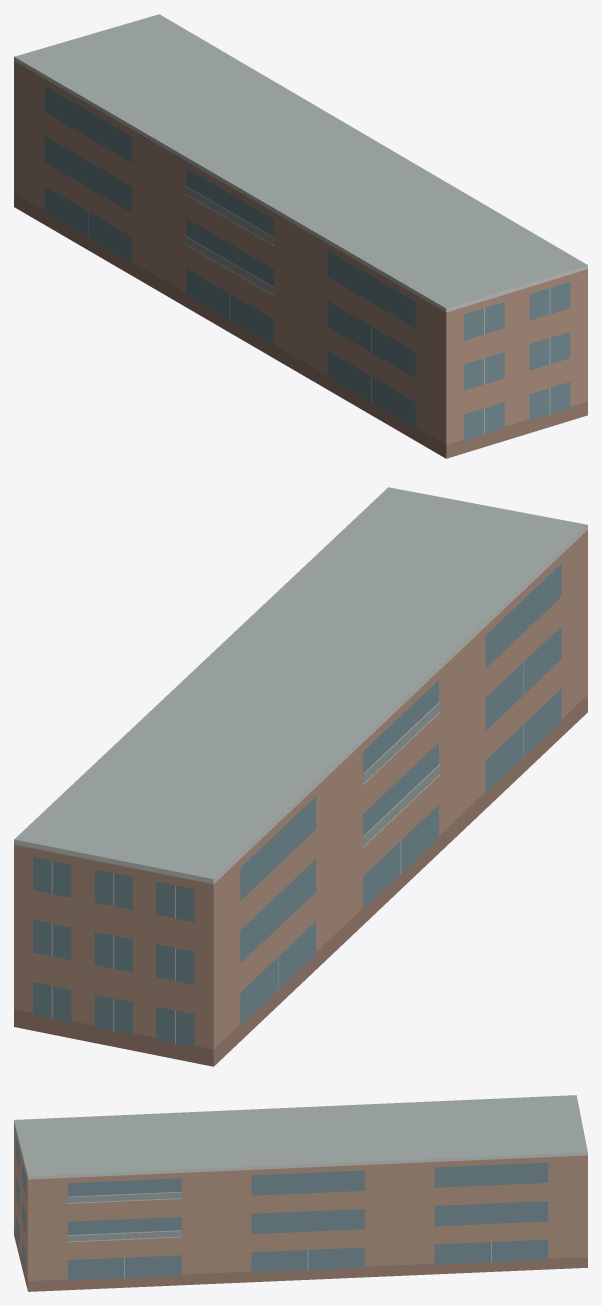
File: survey-upis-32627461.glb
3 views of the same model, one above another, from view 1: azimuth 30°, elevation 25°; view 2: azimuth 150°, elevation 25°; view 3: azimuth 270°, elevation 25° (orthographic). The views are drawn at different scales.
Visible parts, largest first — view 1: survey-upis-32627461.tmp; view 2: survey-upis-32627461.tmp; view 3: survey-upis-32627461.tmp.
Boxes of the visible parts, box(x1,y1,x2,y2) form: survey-upis-32627461.tmp: box(14, 14, 587, 458); survey-upis-32627461.tmp: box(14, 487, 587, 1066); survey-upis-32627461.tmp: box(14, 1095, 587, 1291).
Bounding box in the file's own units: 13.84 × 9.15 × 41.23.
